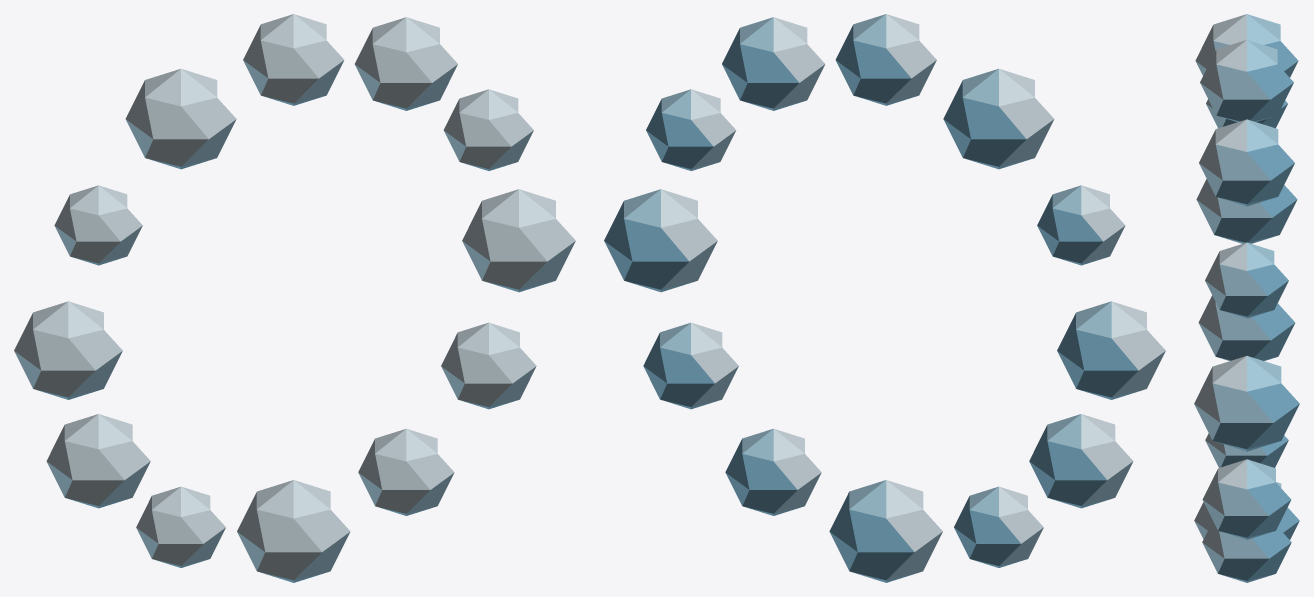
The model's file is bubble-ring.glb.
The picture shows the model from 3 angles, left to right: view 1: azimuth 30°, elevation 25°; view 2: azimuth 150°, elevation 25°; view 3: azimuth 270°, elevation 25°; orthographic projection. The views are drawn at different scales.
Parts seen in each view (by area): view 1: bubble-9, bubble-6, bubble-1, bubble-3, bubble-4, bubble-11, bubble-0, bubble-7, bubble-8, bubble-10, bubble-5, bubble-2; view 2: bubble-9, bubble-6, bubble-1, bubble-3, bubble-4, bubble-11, bubble-0, bubble-7, bubble-8, bubble-10, bubble-5, bubble-2; view 3: bubble-9, bubble-11, bubble-0, bubble-8, bubble-10, bubble-4, bubble-3, bubble-7, bubble-1, bubble-5, bubble-6, bubble-2.
Boxes of the visible parts, x1,y1,x2,y2 form: bubble-9: [462, 189, 575, 292]; bubble-6: [237, 480, 350, 582]; bubble-1: [125, 68, 236, 169]; bubble-3: [14, 301, 122, 399]; bubble-4: [46, 414, 150, 508]; bubble-11: [354, 17, 457, 110]; bubble-0: [243, 14, 344, 105]; bubble-7: [358, 428, 454, 515]; bubble-8: [441, 322, 536, 409]; bubble-10: [443, 89, 533, 170]; bubble-5: [136, 486, 225, 567]; bubble-2: [54, 185, 142, 265]; bubble-9: [604, 189, 717, 292]; bubble-6: [829, 480, 942, 582]; bubble-1: [943, 68, 1054, 169]; bubble-3: [1057, 301, 1165, 399]; bubble-4: [1029, 414, 1133, 508]; bubble-11: [722, 17, 825, 110]; bubble-0: [835, 14, 936, 105]; bubble-7: [725, 428, 821, 515]; bubble-8: [643, 322, 738, 409]; bubble-10: [646, 89, 736, 170]; bubble-5: [954, 486, 1043, 567]; bubble-2: [1037, 185, 1125, 265]; bubble-9: [1194, 356, 1299, 451]; bubble-11: [1199, 119, 1294, 206]; bubble-0: [1200, 40, 1293, 122]; bubble-8: [1202, 459, 1291, 539]; bubble-10: [1205, 242, 1288, 318]; bubble-4: [1198, 295, 1295, 360]; bubble-3: [1196, 179, 1297, 243]; bubble-7: [1202, 521, 1291, 582]; bubble-1: [1195, 14, 1298, 77]; bubble-5: [1205, 433, 1288, 467]; bubble-6: [1194, 482, 1299, 539]; bubble-2: [1206, 99, 1287, 128].
Size of the model in its own units: 2.37 by 2.41 by 0.4381.
